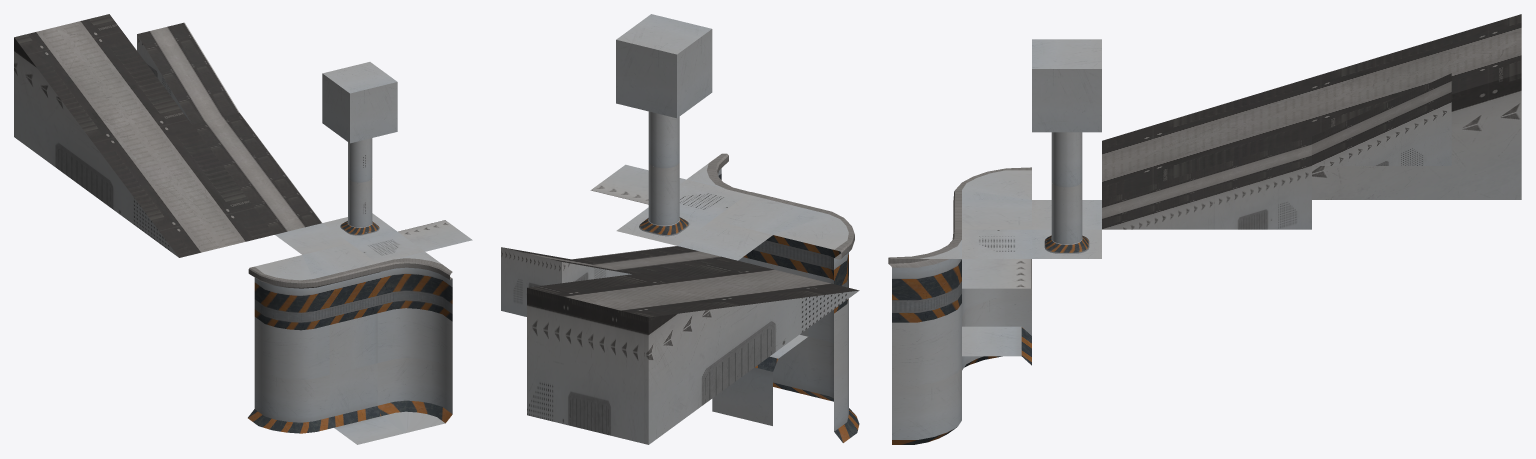
Rendered from Parts.fbx.
3 renders of one model, left to right at view 1: azimuth 30°, elevation 25°; view 2: azimuth 150°, elevation 25°; view 3: azimuth 270°, elevation 25°, orthographic. The views are drawn at different scales.
Parts seen in each view (by area): view 1: ramp 2x6, ramp 1x3, ramp 1x2, Cube, Edge_corner_out, Edge_corner_in, Edge_corner_out_floor, Edge_corner_in.001, corner_out, corner_in, 90 degrees, Edge (+6 smaller); view 2: ramp 2x6, Cube, Edge, ramp 1x2, Edge_corner_out, Floor.001, Cube.002, Edge_corner_out_floor, ramp 1x3, Floor, holes, corner_out (+5 smaller); view 3: ramp 2x6, ramp 1x3, ramp 1x2, Cube, Edge_corner_in.001, corner_in, Edge_corner_in, Floor.001, Edge, Cube.002, Edge_corner_out, Edge_corner_out_floor (+5 smaller).
Boxes of the visible parts, x1,y1,x2,y2 form: ramp 2x6: (14, 14, 274, 257); ramp 1x3: (192, 112, 321, 234); ramp 1x2: (137, 22, 239, 124); Cube: (322, 62, 397, 143); Edge_corner_out: (248, 255, 333, 330); Edge_corner_in: (377, 358, 452, 433); Edge_corner_out_floor: (248, 367, 333, 433); Edge_corner_in.001: (377, 252, 452, 321); corner_out: (254, 317, 329, 379); corner_in: (377, 308, 452, 371); 90 degrees: (329, 363, 404, 444); Edge: (303, 243, 380, 324); ramp 2x6: (527, 260, 859, 444); Cube: (616, 14, 712, 118); Edge: (712, 192, 811, 272); ramp 1x2: (501, 247, 631, 316); Edge_corner_out: (773, 207, 854, 313); Floor.001: (616, 163, 711, 245); Cube.002: (712, 334, 807, 425); Edge_corner_out_floor: (808, 337, 859, 442); ramp 1x3: (572, 246, 736, 274); Floor: (677, 220, 772, 260); holes: (679, 179, 746, 219); corner_out: (808, 273, 848, 376); ramp 2x6: (1102, 14, 1521, 199); ramp 1x3: (1102, 136, 1311, 229); ramp 1x2: (1312, 73, 1451, 165); Cube: (1032, 39, 1101, 132); Edge_corner_in.001: (888, 229, 961, 322); corner_in: (892, 303, 961, 385); Edge_corner_in: (892, 367, 961, 444); Floor.001: (1032, 181, 1101, 258); Edge: (953, 200, 1031, 230); Cube.002: (962, 326, 1031, 365); Edge_corner_out: (953, 167, 1031, 200); Edge_corner_out_floor: (962, 297, 1031, 370).
Bounding box in the file's own units: 1000 × 1200 × 1811.
